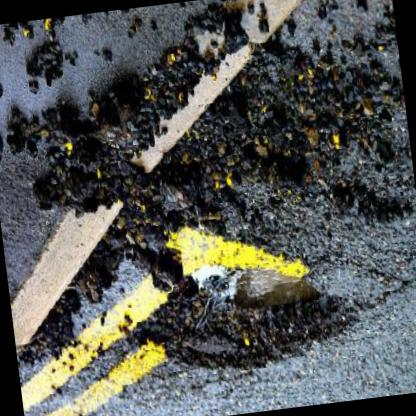pothole: (128, 257, 365, 388)
